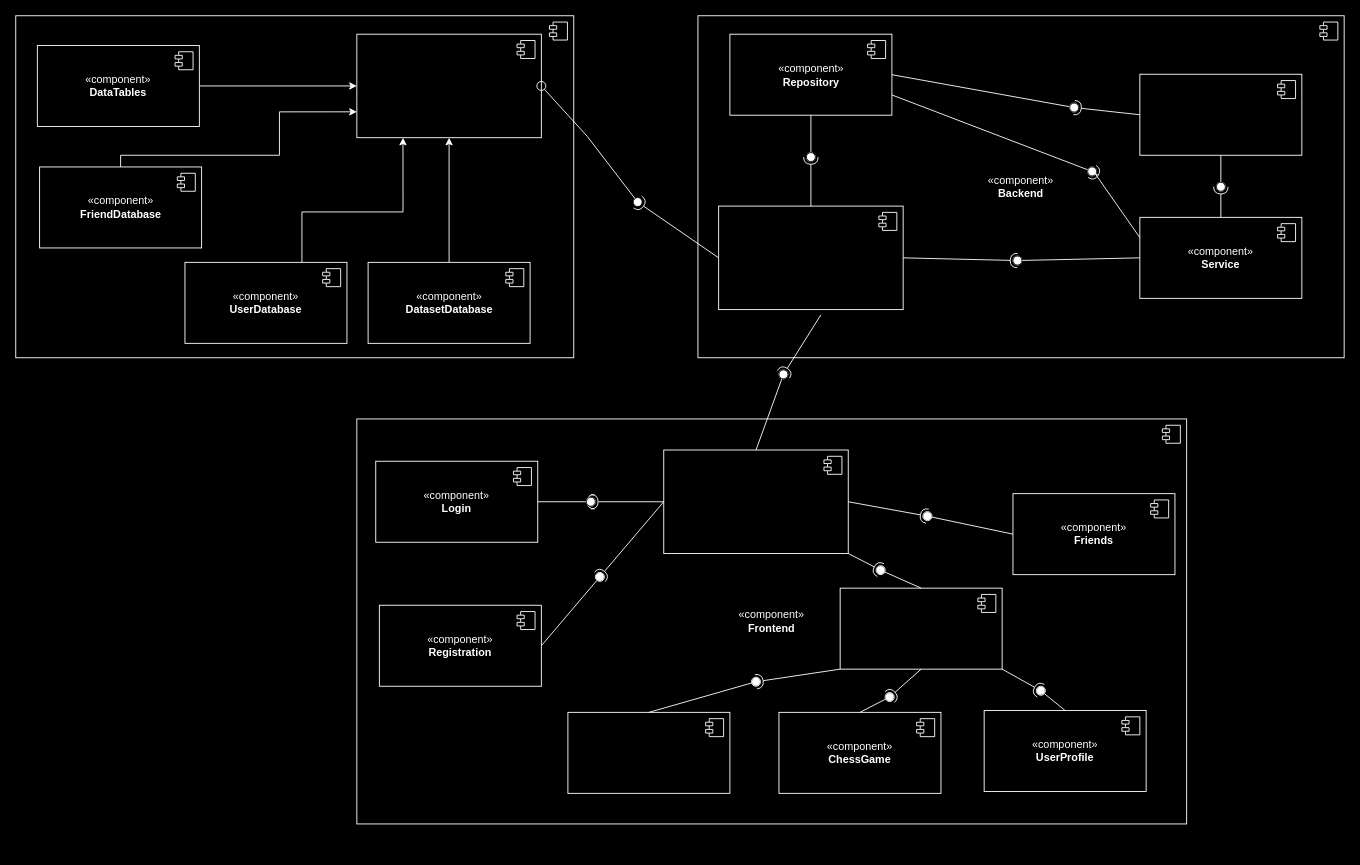
Some shapes in this 1360 by 865 pixel diagram are drawn without their labels. Here are the shapes that lost their labels. From the top down, the box of each, then its label:
(356, 33, 541, 138): «component» Database
(1139, 73, 1302, 155): «component» ServiceImplementation
(15, 15, 574, 358): «component» MySQL Database
(718, 205, 903, 310): «component» RestService/Controller
(663, 449, 848, 554): «component» WebService
(839, 587, 1002, 669): «component» HomePage
(567, 711, 730, 793): «component» Friendlist
